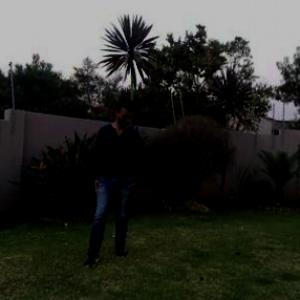follow: (87, 91, 141, 260)
